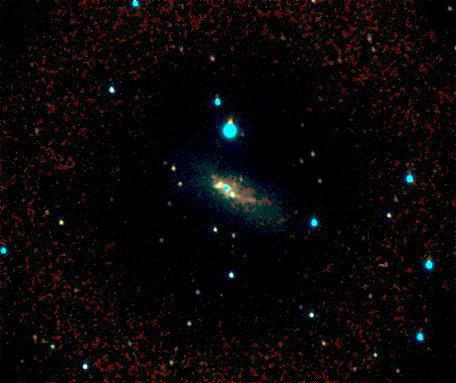star: (198, 161, 228, 191)
